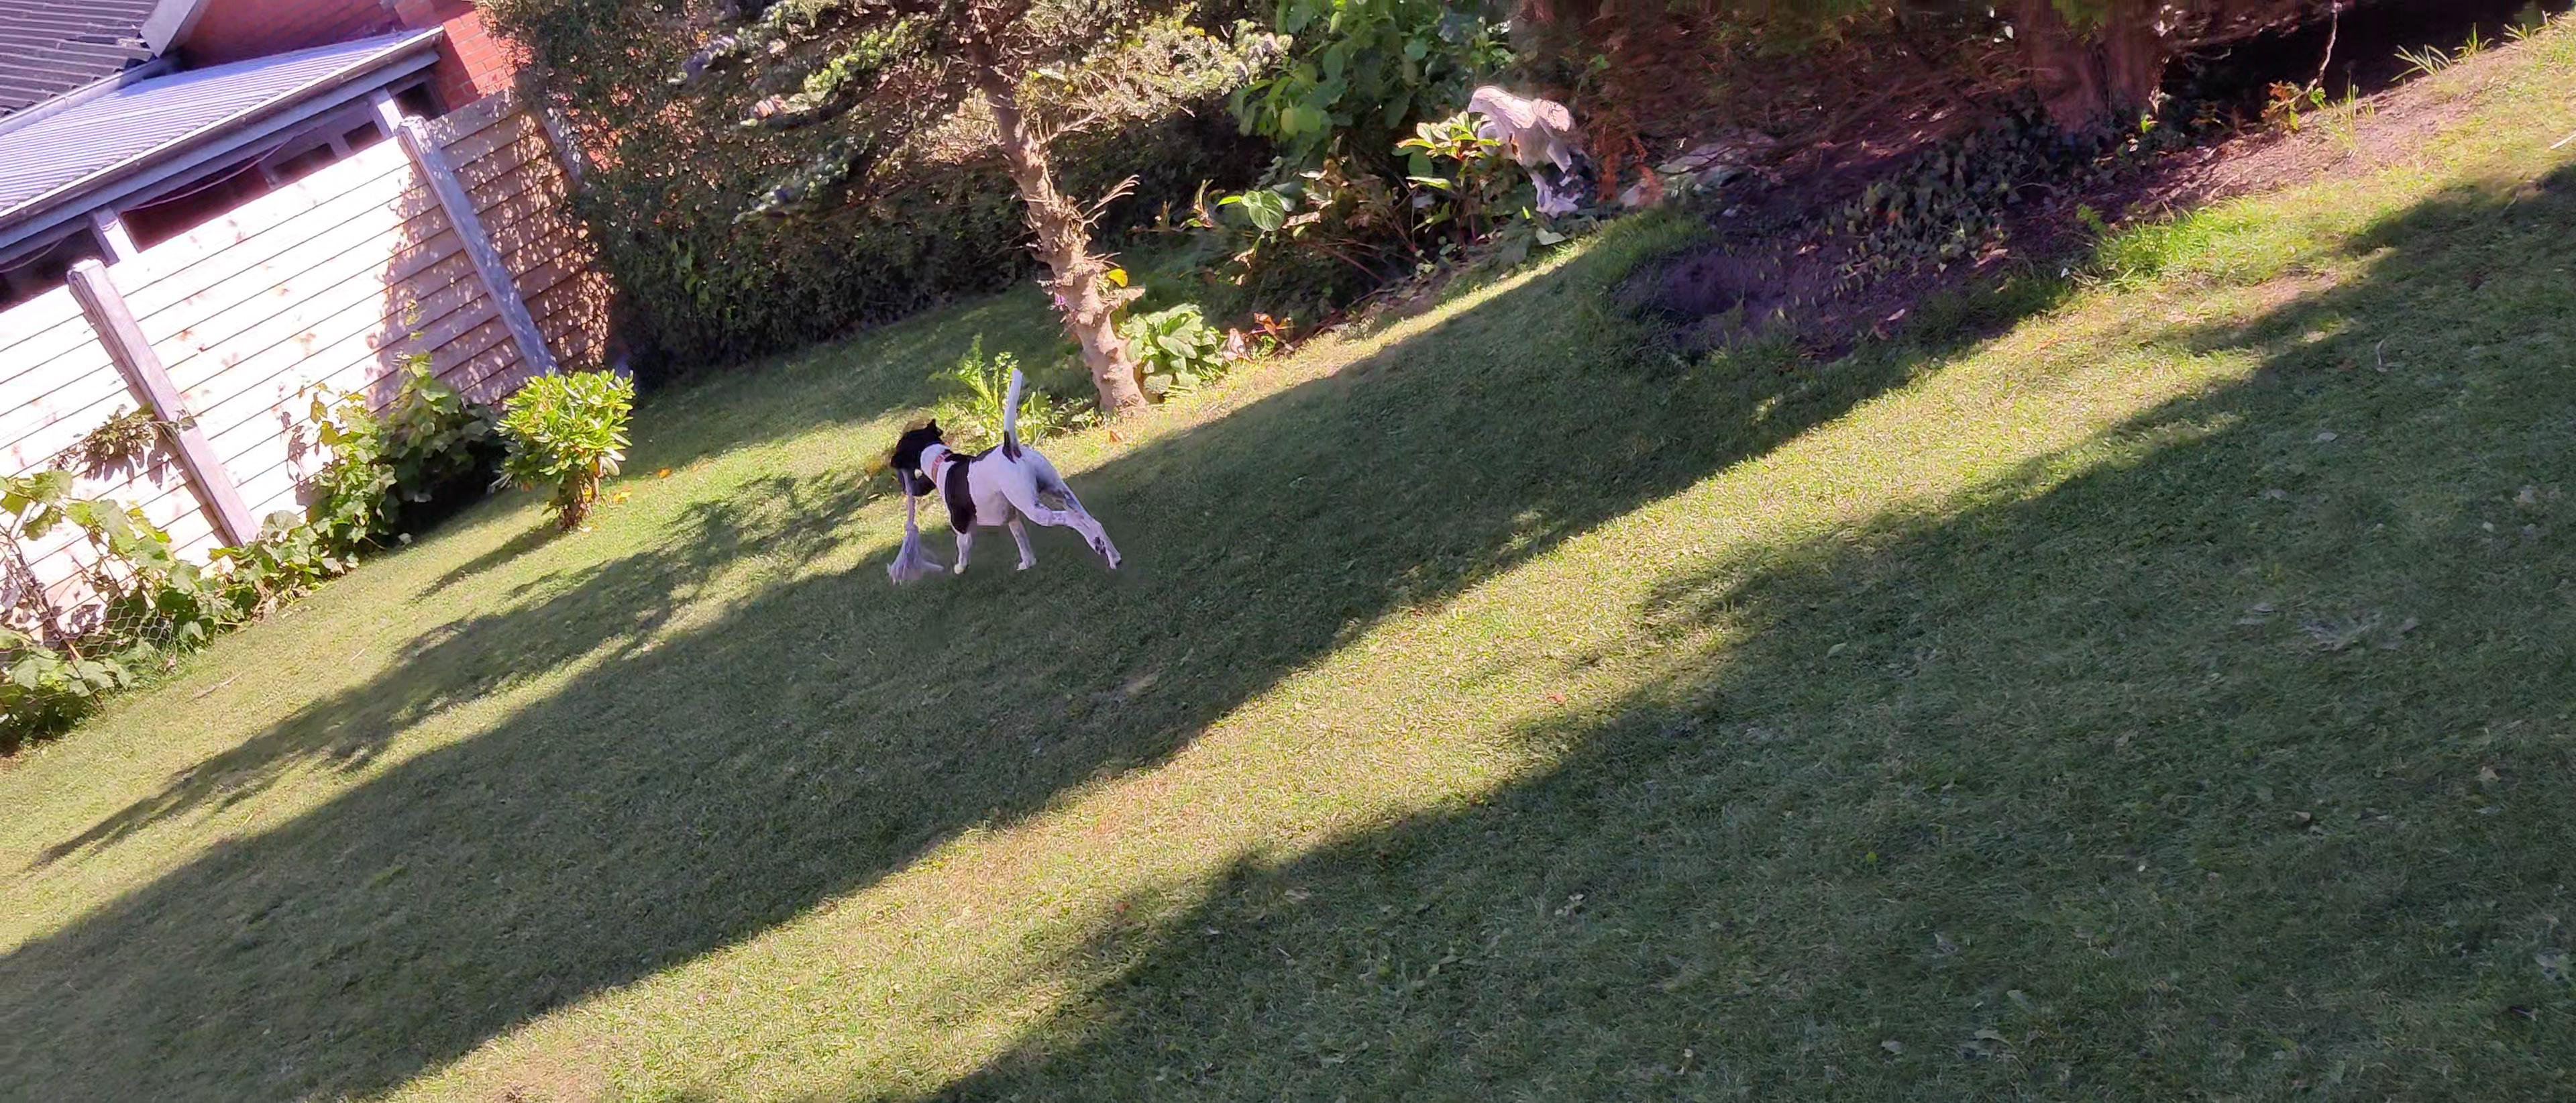Dog: (882, 363, 1134, 577)
